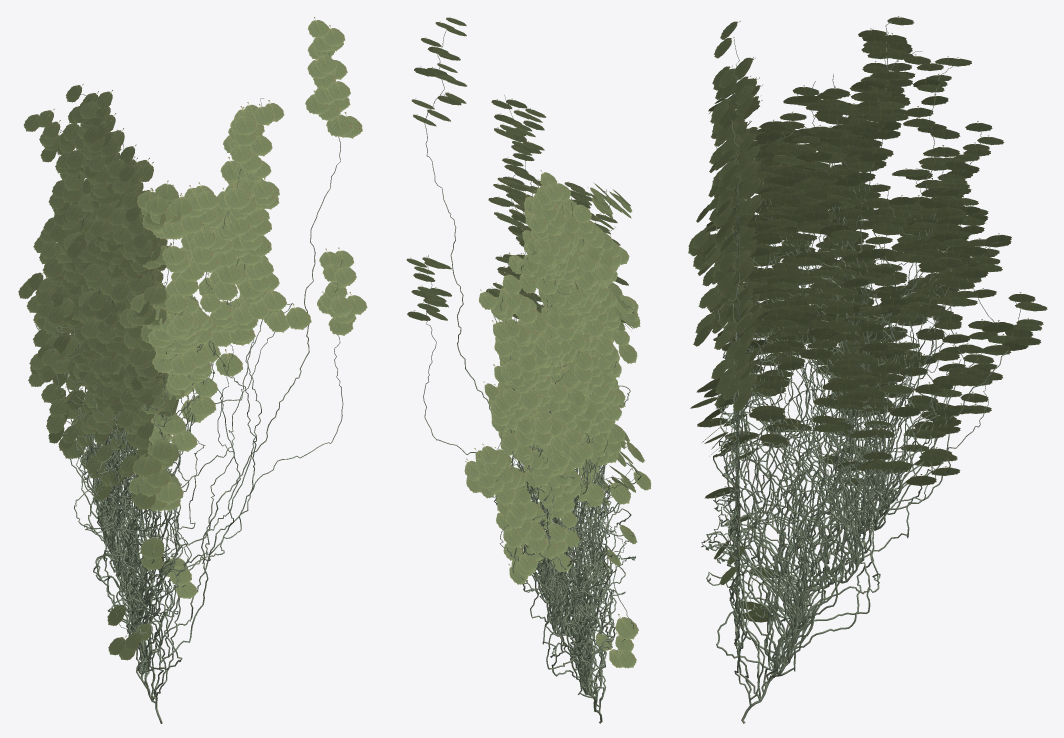
Rendered from vine_1.fbx.
The picture shows the model from 3 angles, left to right: view 1: azimuth 30°, elevation 25°; view 2: azimuth 150°, elevation 25°; view 3: azimuth 270°, elevation 25°; orthographic projection. The views are drawn at different scales.
Parts seen in each view (by area): view 1: IvyLeaf, IVY_Curve; view 2: IvyLeaf, IVY_Curve; view 3: IvyLeaf, IVY_Curve.
Part boxes in pixels (left/top/right/bottom): IvyLeaf: left=18, top=17, right=367, bottom=660; IVY_Curve: left=35, top=52, right=343, bottom=723; IvyLeaf: left=406, top=17, right=651, bottom=668; IVY_Curve: left=423, top=28, right=640, bottom=723; IvyLeaf: left=688, top=16, right=1047, bottom=622; IVY_Curve: left=701, top=21, right=1020, bottom=723.
Size of the model in its own units: 69.78 by 176 by 73.59.
